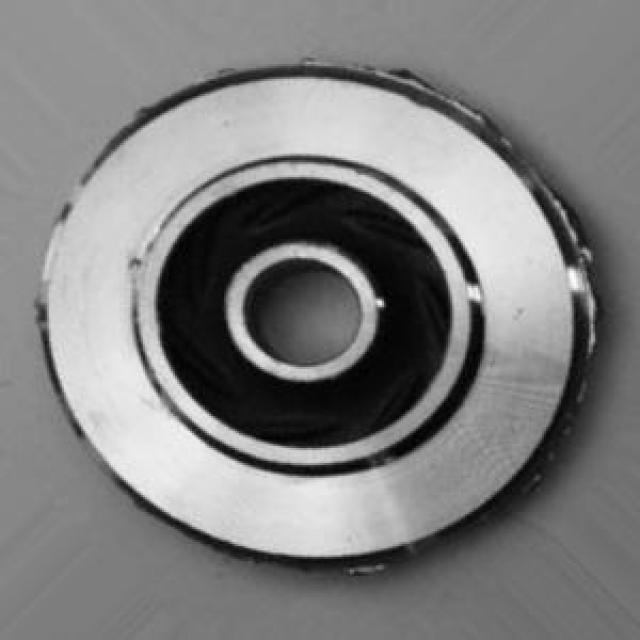Defect: (552, 197, 590, 265)
